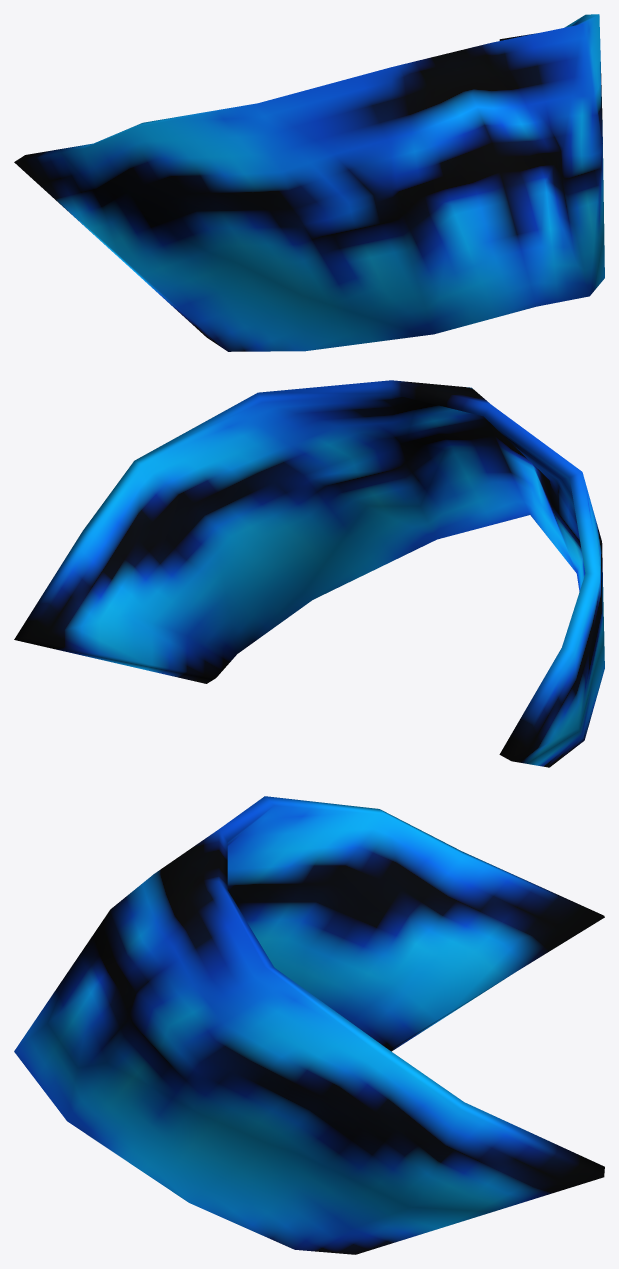
Rendered from WorldItem_FaceMaskRave.fbx.
3 renders of one model, top to bottom at view 1: azimuth 30°, elevation 25°; view 2: azimuth 150°, elevation 25°; view 3: azimuth 270°, elevation 25°, orthographic. The views are drawn at different scales.
Visible parts, largest first — view 1: Body.002; view 2: Body.002; view 3: Body.002.
Part boxes in pixels (box(x1,y1,x2,y2)): Body.002: box(14, 14, 604, 351); Body.002: box(14, 380, 604, 767); Body.002: box(14, 796, 604, 1254).
Bounding box in the file's own units: 0.1218 × 0.0672 × 0.1163.
